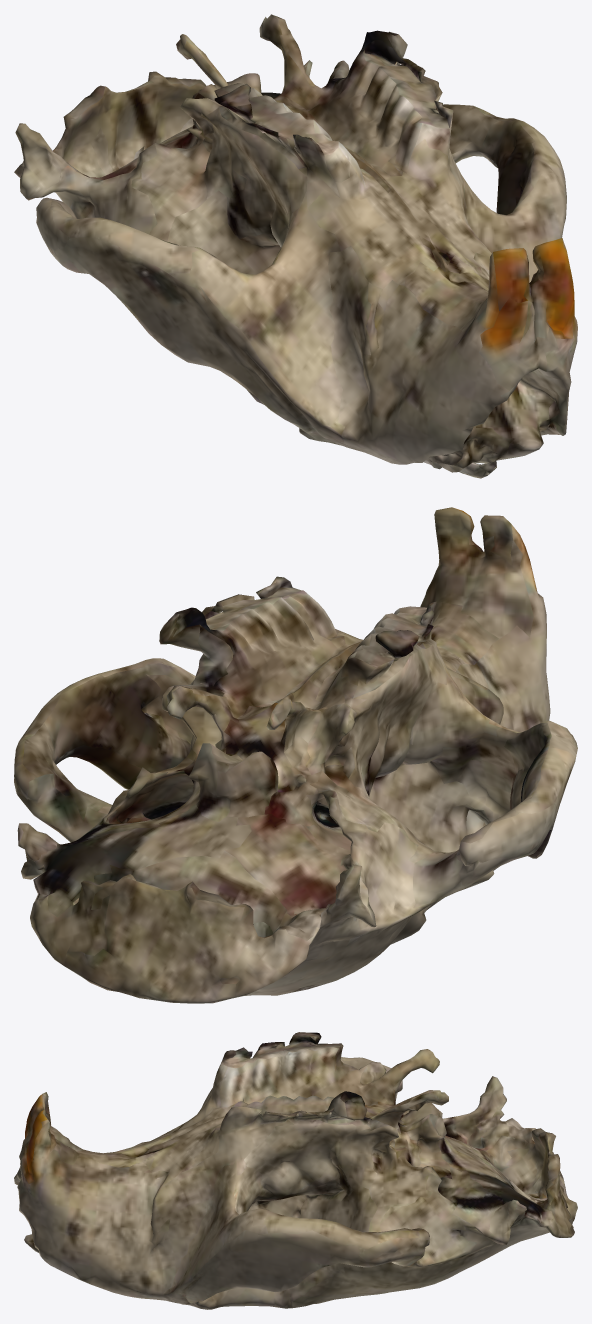
File: FINALSCANCraniumBeaver53-20k-thumb.glb
3 renders of one model, top to bottom at view 1: azimuth 30°, elevation 25°; view 2: azimuth 150°, elevation 25°; view 3: azimuth 270°, elevation 25°, orthographic. The views are drawn at different scales.
Bounding box in the file's own units: 77.35 × 49.86 × 110.
Materials: 1 (1 with a texture image).
